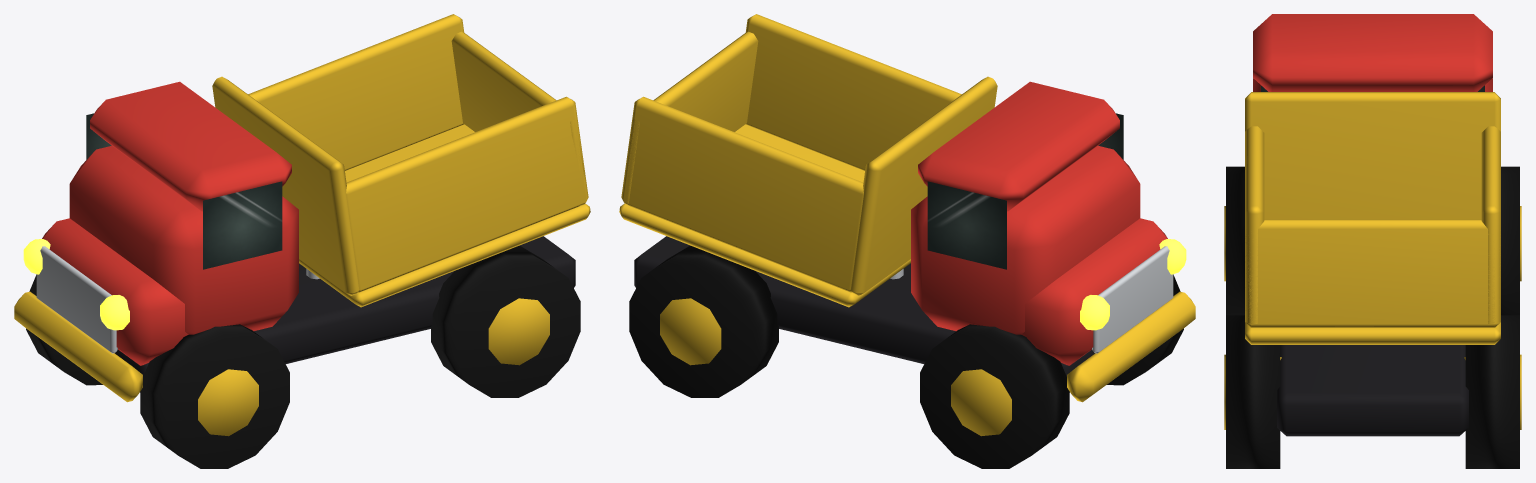
The model's file is toy_truck.glb.
3 renders of one model, left to right at view 1: azimuth 30°, elevation 25°; view 2: azimuth 150°, elevation 25°; view 3: azimuth 270°, elevation 25°, orthographic. The views are drawn at different scales.
Visible parts, largest first — view 1: model; view 2: model; view 3: model.
Boxes of the visible parts, x1,y1,x2,y2 form: model: (14, 14, 590, 468); model: (619, 14, 1195, 468); model: (1224, 14, 1521, 468).
Bounding box in the file's own units: 0.3564 × 0.205 × 0.186.
7 materials, 1 textured.
